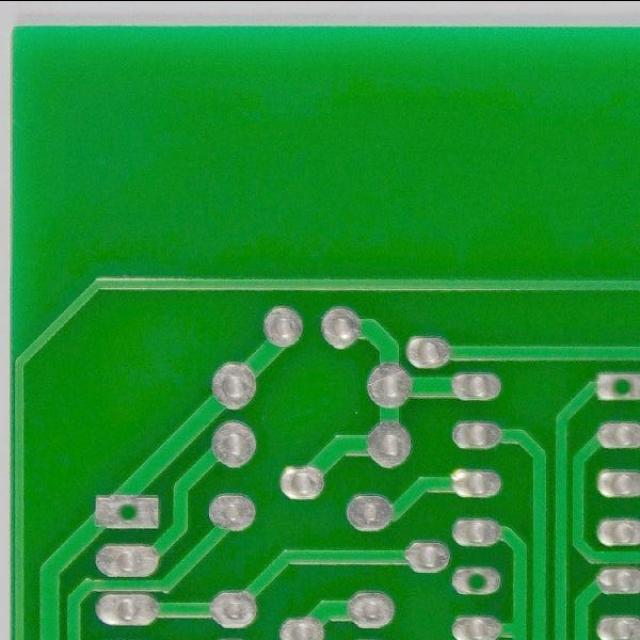Missing_Hole: (447, 563, 504, 600), (104, 490, 148, 532), (593, 367, 640, 405)
